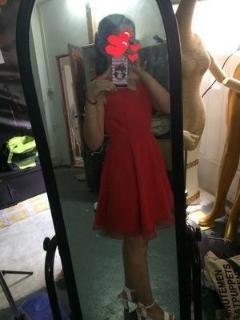vest: (90, 74, 174, 239)
